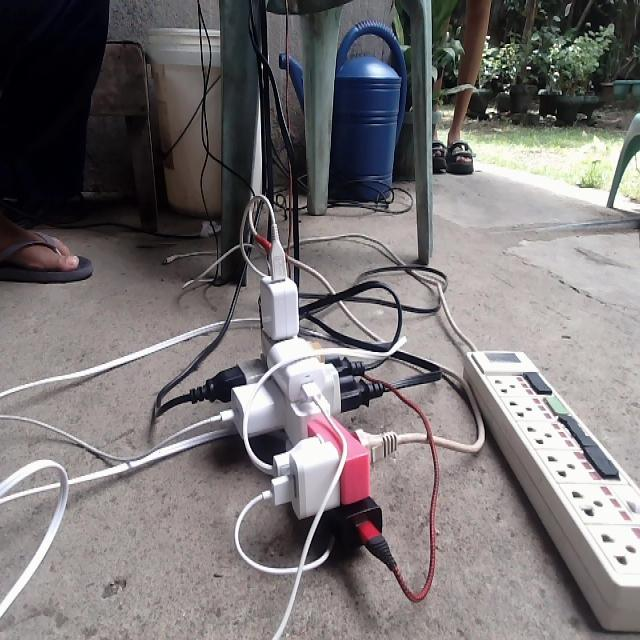-: (186, 221, 411, 579)
